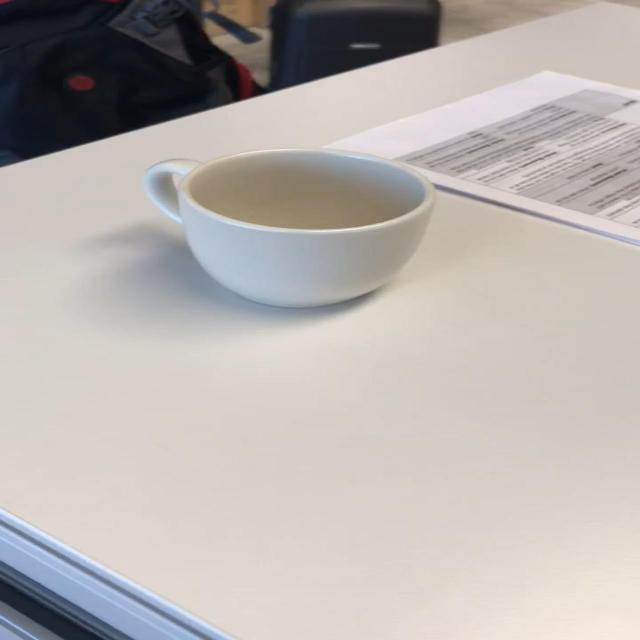cup: (179, 149, 433, 308)
